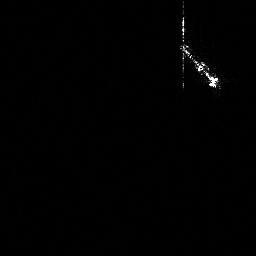ship: (176, 38, 223, 91)
